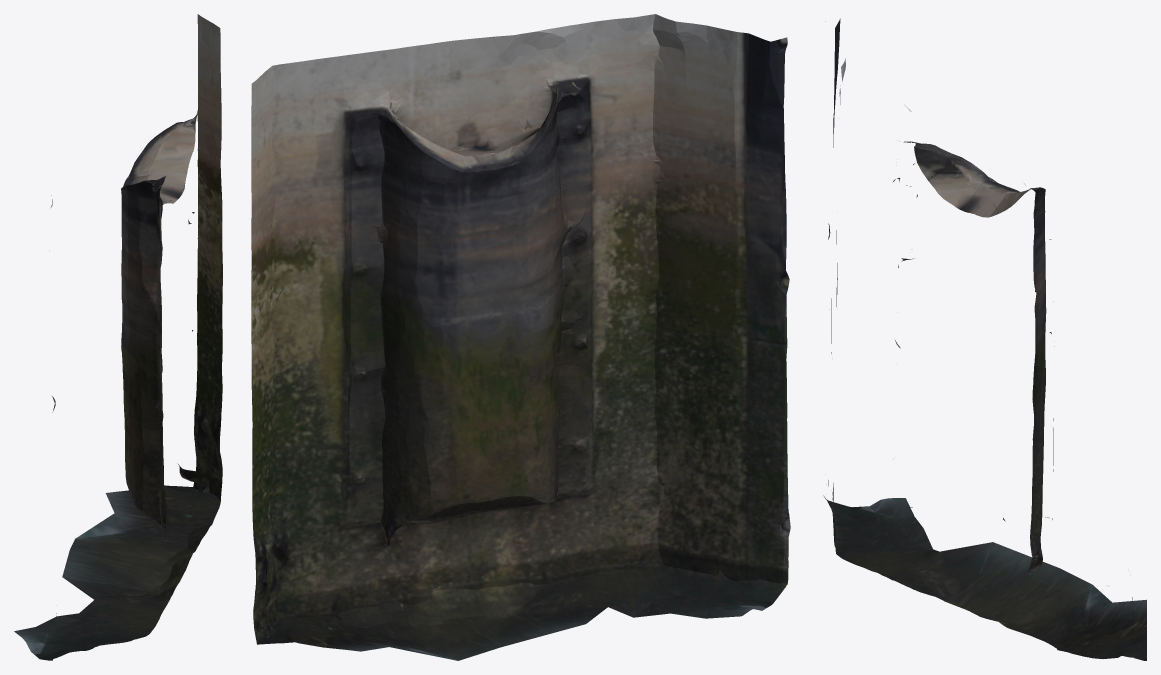
3 views of the same model, side by side, from view 1: azimuth 30°, elevation 25°; view 2: azimuth 150°, elevation 25°; view 3: azimuth 270°, elevation 25° (orthographic). The views are drawn at different scales.
Size of the model in its own units: 1.08 by 1.65 by 0.9664.
1 material, 1 textured.
